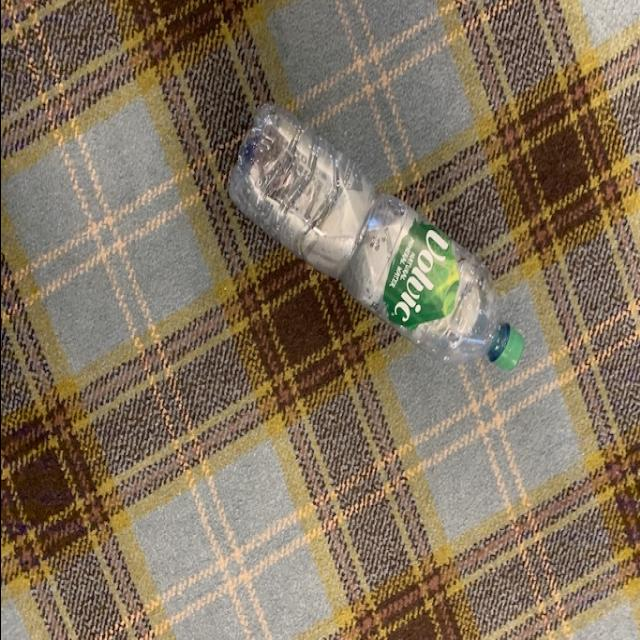PET: (224, 103, 526, 375)
